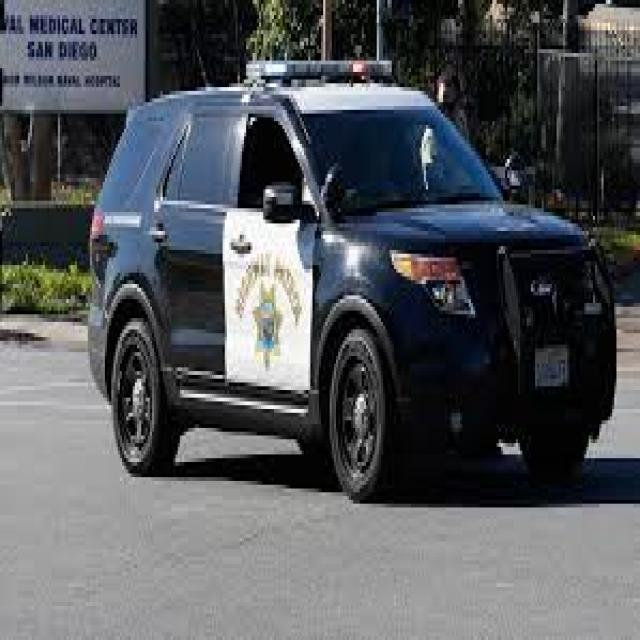cop: (86, 51, 618, 504)
